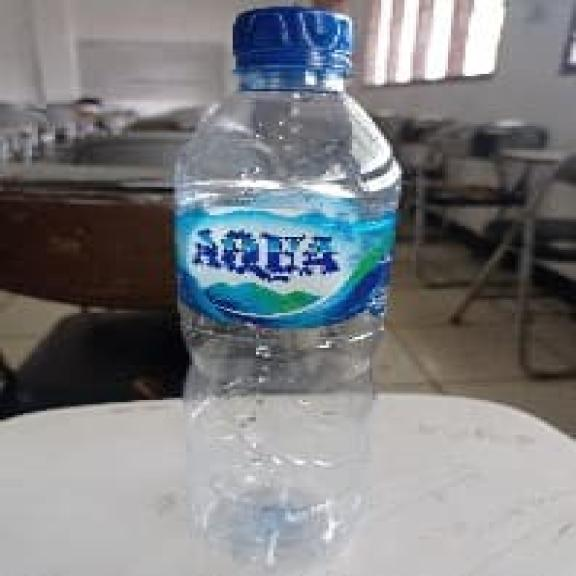Plastik: (178, 7, 401, 574)
